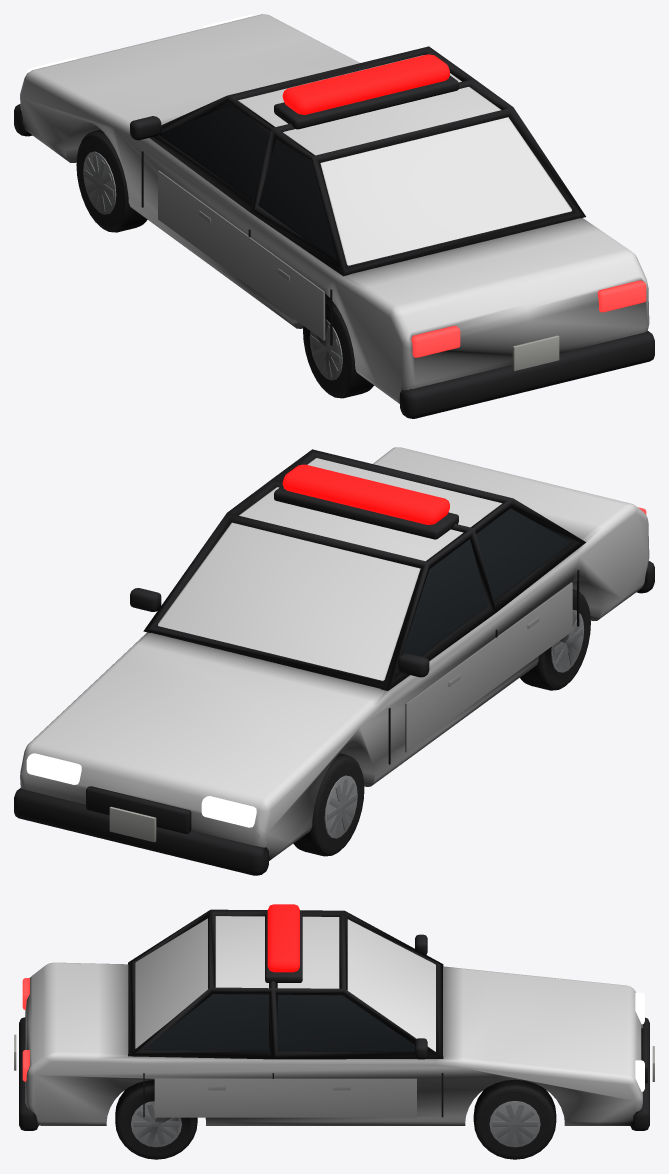
The model's file is car_police.glb.
The picture shows the model from 3 angles, top to bottom: view 1: azimuth 30°, elevation 25°; view 2: azimuth 150°, elevation 25°; view 3: azimuth 270°, elevation 25°; orthographic projection. The views are drawn at different scales.
Visible parts, largest first — view 1: Body, Cabin, Frame, DoorWhite, BumperR, Light_Siren, WheelMesh_FL, WheelMesh_RL, BarBase, Light_Tail, PlateR, Mirror; view 2: Body, Cabin, Frame, DoorWhite, BumperF, Light_Siren, WheelMesh_FL, WheelMesh_RL, BarBase, Light_Head, Grille, PlateF (+2 smaller); view 3: Body, Cabin, DoorWhite.001, Frame, WheelMesh_FR, WheelMesh_RR, Light_Siren, BumperR, BarBase, BumperF, Light_Head, Light_Tail.
Boxes of the visible parts, x1,y1,x2,y2 form: Body: [20, 14, 649, 403]; Cabin: [160, 55, 573, 266]; Frame: [149, 46, 585, 276]; DoorWhite: [158, 170, 325, 340]; BumperR: [400, 331, 654, 418]; Light_Siren: [282, 54, 449, 114]; WheelMesh_FL: [76, 129, 147, 232]; WheelMesh_RL: [303, 295, 373, 398]; BarBase: [274, 75, 458, 129]; Light_Tail: [411, 280, 646, 357]; PlateR: [512, 335, 559, 370]; Mirror: [130, 116, 161, 140]; Body: [20, 447, 649, 860]; Cabin: [156, 458, 572, 681]; Frame: [143, 449, 585, 690]; DoorWhite: [405, 582, 572, 752]; BumperF: [14, 788, 268, 875]; Light_Siren: [282, 464, 449, 524]; WheelMesh_FL: [293, 753, 364, 856]; WheelMesh_RL: [520, 589, 590, 690]; BarBase: [274, 485, 458, 539]; Light_Head: [26, 753, 256, 827]; Grille: [86, 786, 191, 833]; PlateF: [109, 806, 156, 842]; Body: [25, 962, 642, 1125]; Cabin: [135, 916, 436, 1052]; DoorWhite.001: [154, 1078, 416, 1117]; Frame: [128, 909, 443, 1059]; WheelMesh_FR: [473, 1079, 556, 1159]; WheelMesh_RR: [115, 1080, 197, 1159]; Light_Siren: [267, 904, 299, 972]; BumperR: [19, 1017, 38, 1130]; BarBase: [265, 914, 302, 982]; BumperF: [630, 1017, 649, 1130]; Light_Head: [635, 992, 644, 1091]; Light_Tail: [22, 978, 29, 1081].
Size of the model in its own units: 2.16 by 1.62 by 5.13.
